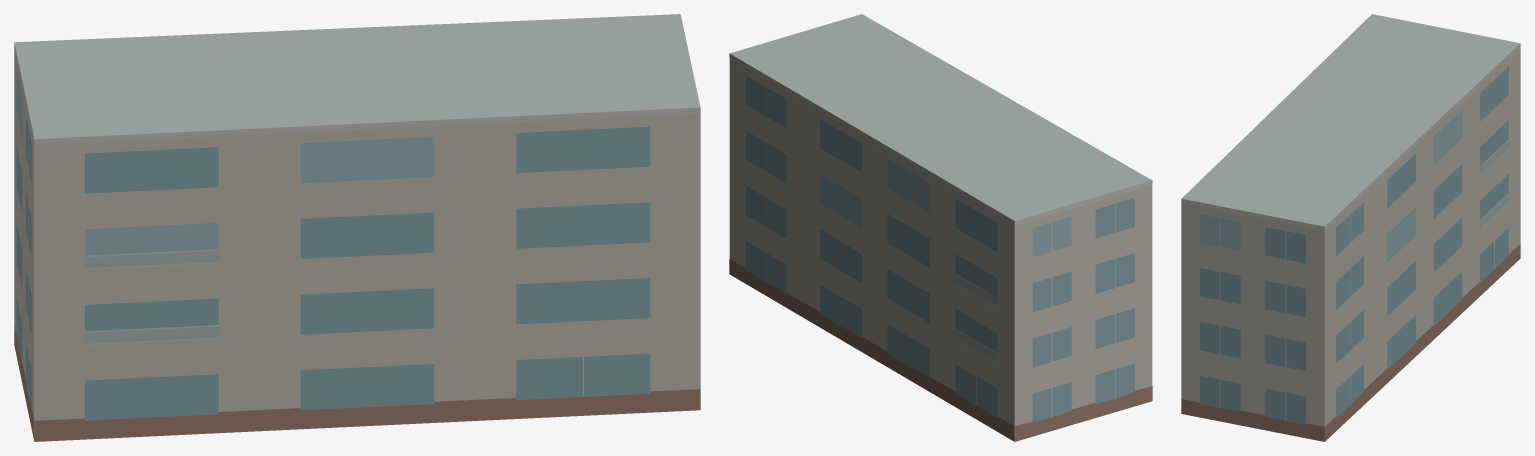
File: survey-upis-32743237.glb
The picture shows the model from 3 angles, left to right: view 1: azimuth 30°, elevation 25°; view 2: azimuth 150°, elevation 25°; view 3: azimuth 270°, elevation 25°; orthographic projection. The views are drawn at different scales.
Visible parts, largest first — view 1: survey-upis-32743237.tmp; view 2: survey-upis-32743237.tmp; view 3: survey-upis-32743237.tmp.
Boxes of the visible parts, <box> form: survey-upis-32743237.tmp: <box>14,14,700,441</box>; survey-upis-32743237.tmp: <box>729,14,1152,441</box>; survey-upis-32743237.tmp: <box>1181,14,1520,441</box>.
Size of the model in its own units: 26.28 by 12.4 by 17.71.
